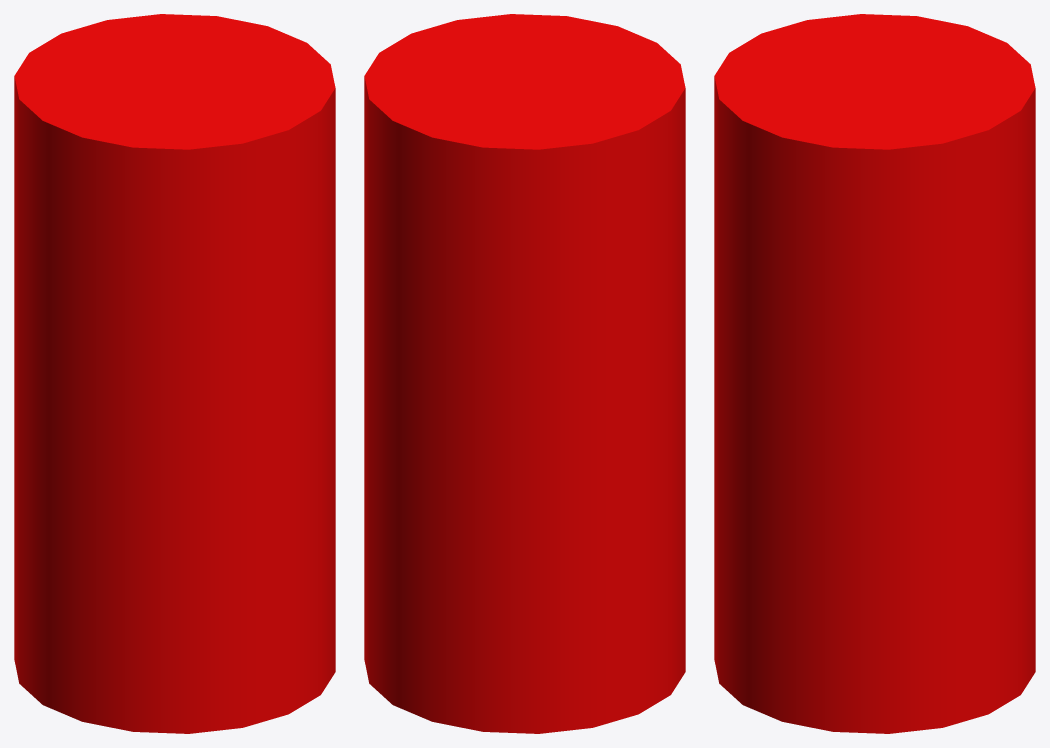
File: playerRed.DAE
The picture shows the model from 3 angles, left to right: view 1: azimuth 30°, elevation 25°; view 2: azimuth 150°, elevation 25°; view 3: azimuth 270°, elevation 25°; orthographic projection.
Visible parts, largest first — view 1: Zylinder001; view 2: Zylinder001; view 3: Zylinder001.
Part boxes in pixels (x1=…): Zylinder001: x1=14, y1=14, x2=335, y2=733; Zylinder001: x1=364, y1=14, x2=685, y2=733; Zylinder001: x1=714, y1=14, x2=1035, y2=733.
Size of the model in its own units: 2.99 by 2.99 by 6.
Materials: 1 (1 with a texture image).
